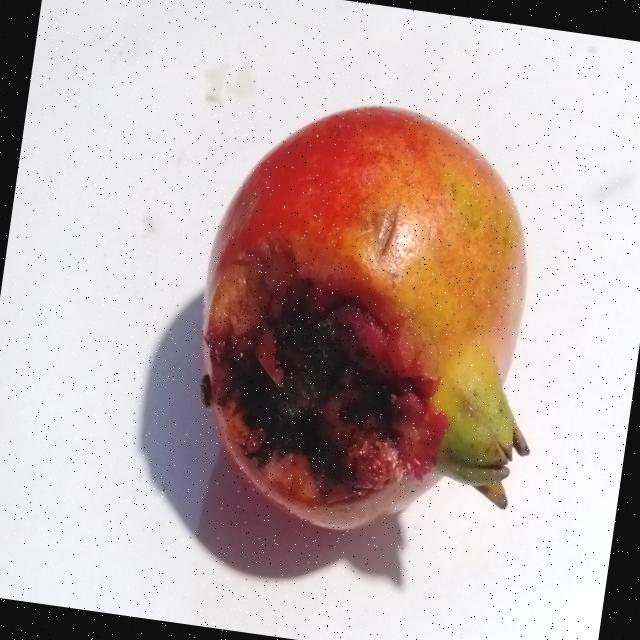Rotten: (170, 80, 576, 561)
